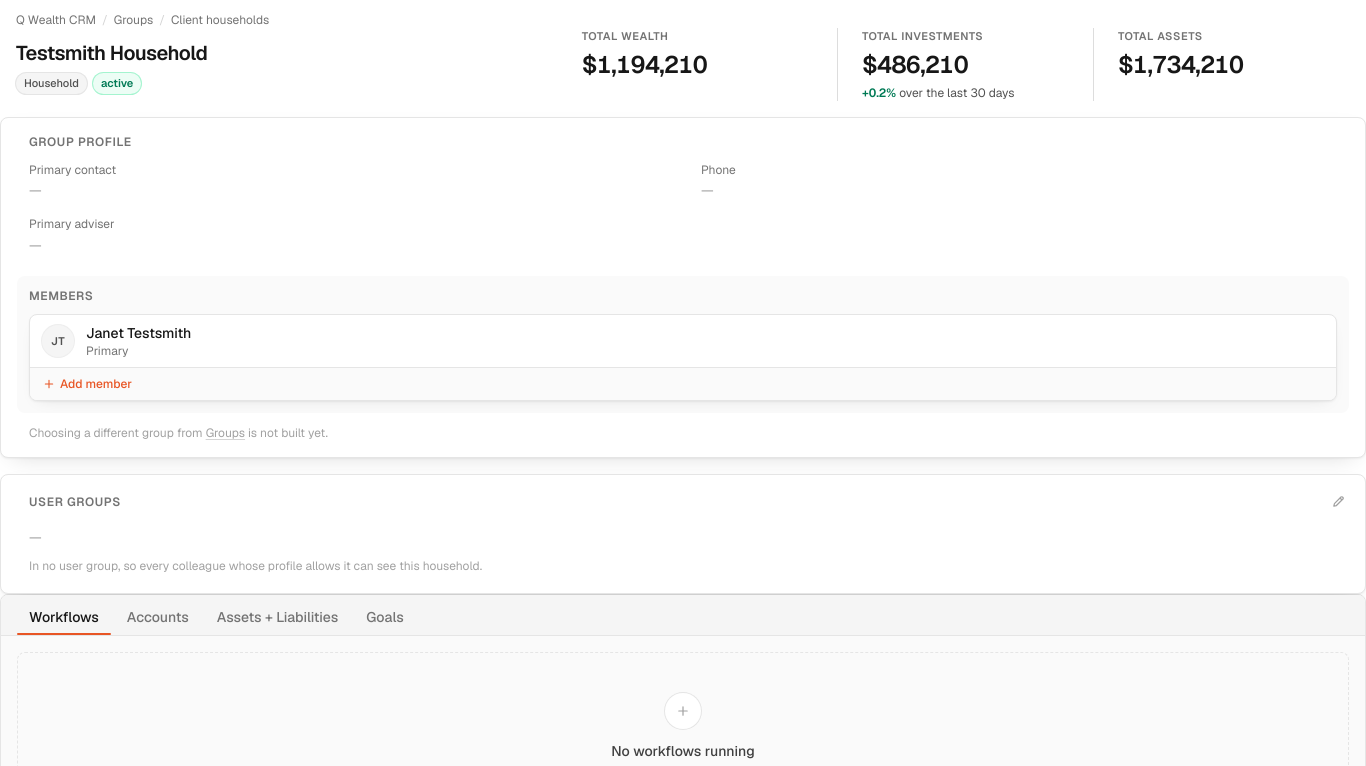
Test: the Assets + Liabilities tab › splits into two columns, owned on the left and owed on the right
What coordinates should you click on to do the following:
click the tab "Assets + Liabilities"
I would click on:
 (278, 617)
Its box is [205, 599, 350, 635].
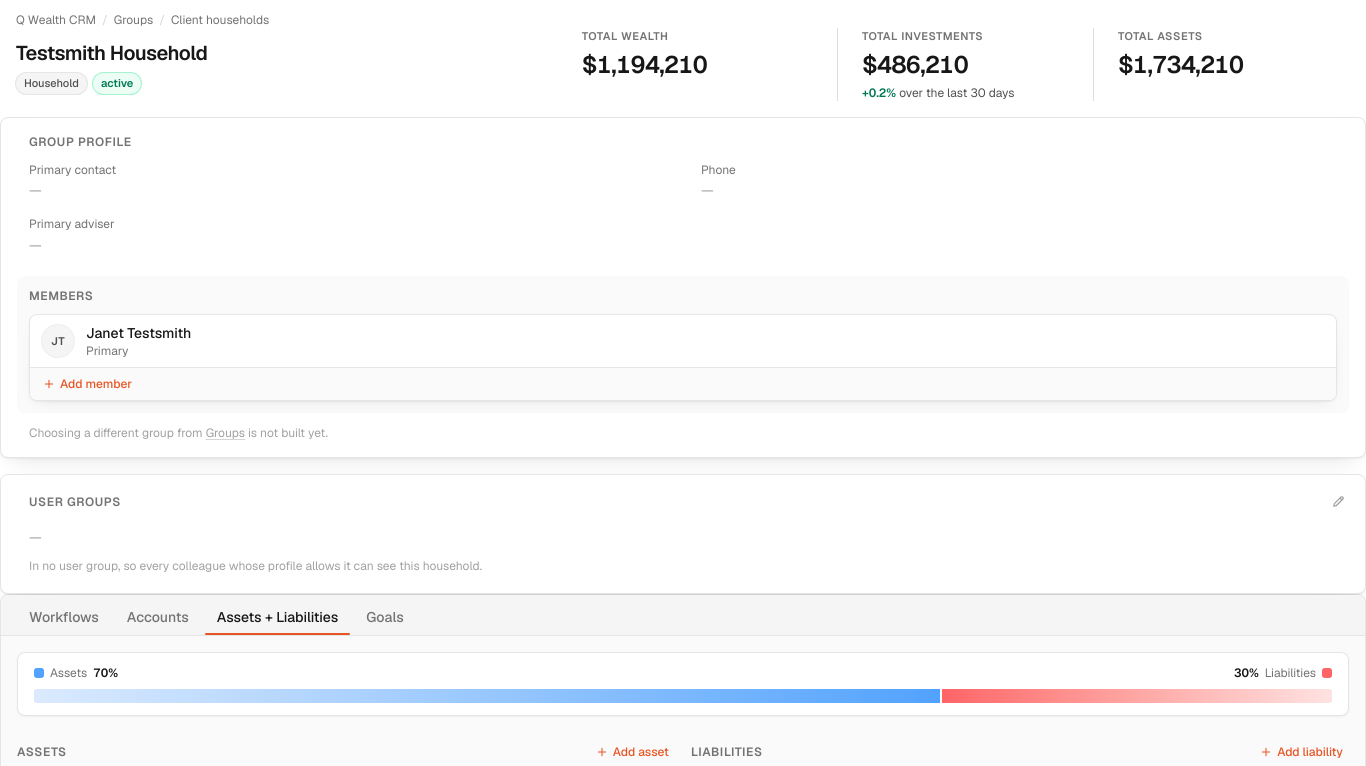
Now the heading "Assets" is shown, box [17, 744, 67, 760]
Now the heading "Liabilities" is shown, box [691, 744, 763, 760]
